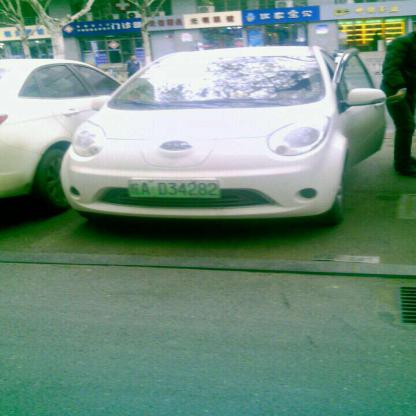lp: (130, 178, 220, 197)
